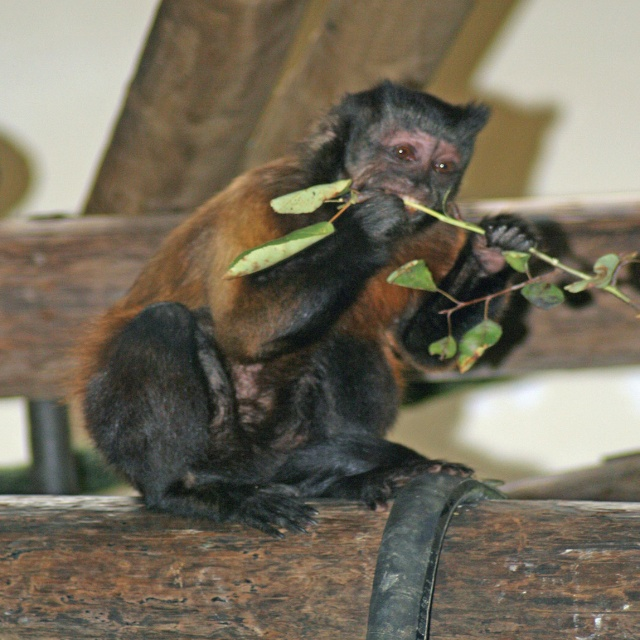Monkey: (72, 79, 577, 548)
